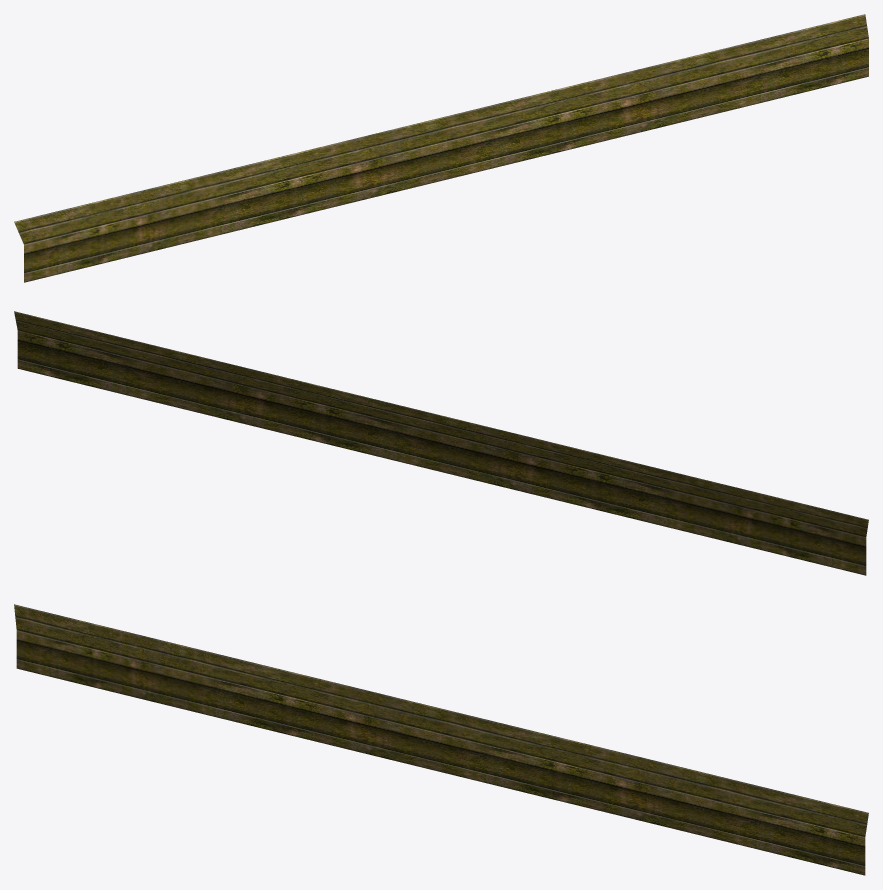
Rendered from OVERHILL_A_01_OBJECT298.fbx.
3 views of the same model, one above another, from view 1: azimuth 30°, elevation 25°; view 2: azimuth 150°, elevation 25°; view 3: azimuth 330°, elevation 25° (orthographic).
Visible parts, largest first — view 1: OVERHILL_A_01_OBJECT298; view 2: OVERHILL_A_01_OBJECT298; view 3: OVERHILL_A_01_OBJECT298.
Boxes of the visible parts, x1,y1,x2,y2 form: OVERHILL_A_01_OBJECT298: [14, 14, 868, 282]; OVERHILL_A_01_OBJECT298: [14, 311, 868, 575]; OVERHILL_A_01_OBJECT298: [14, 604, 868, 875].
Size of the model in its own units: 183879 by 12361 by 1348.
2 materials, 2 textured.
